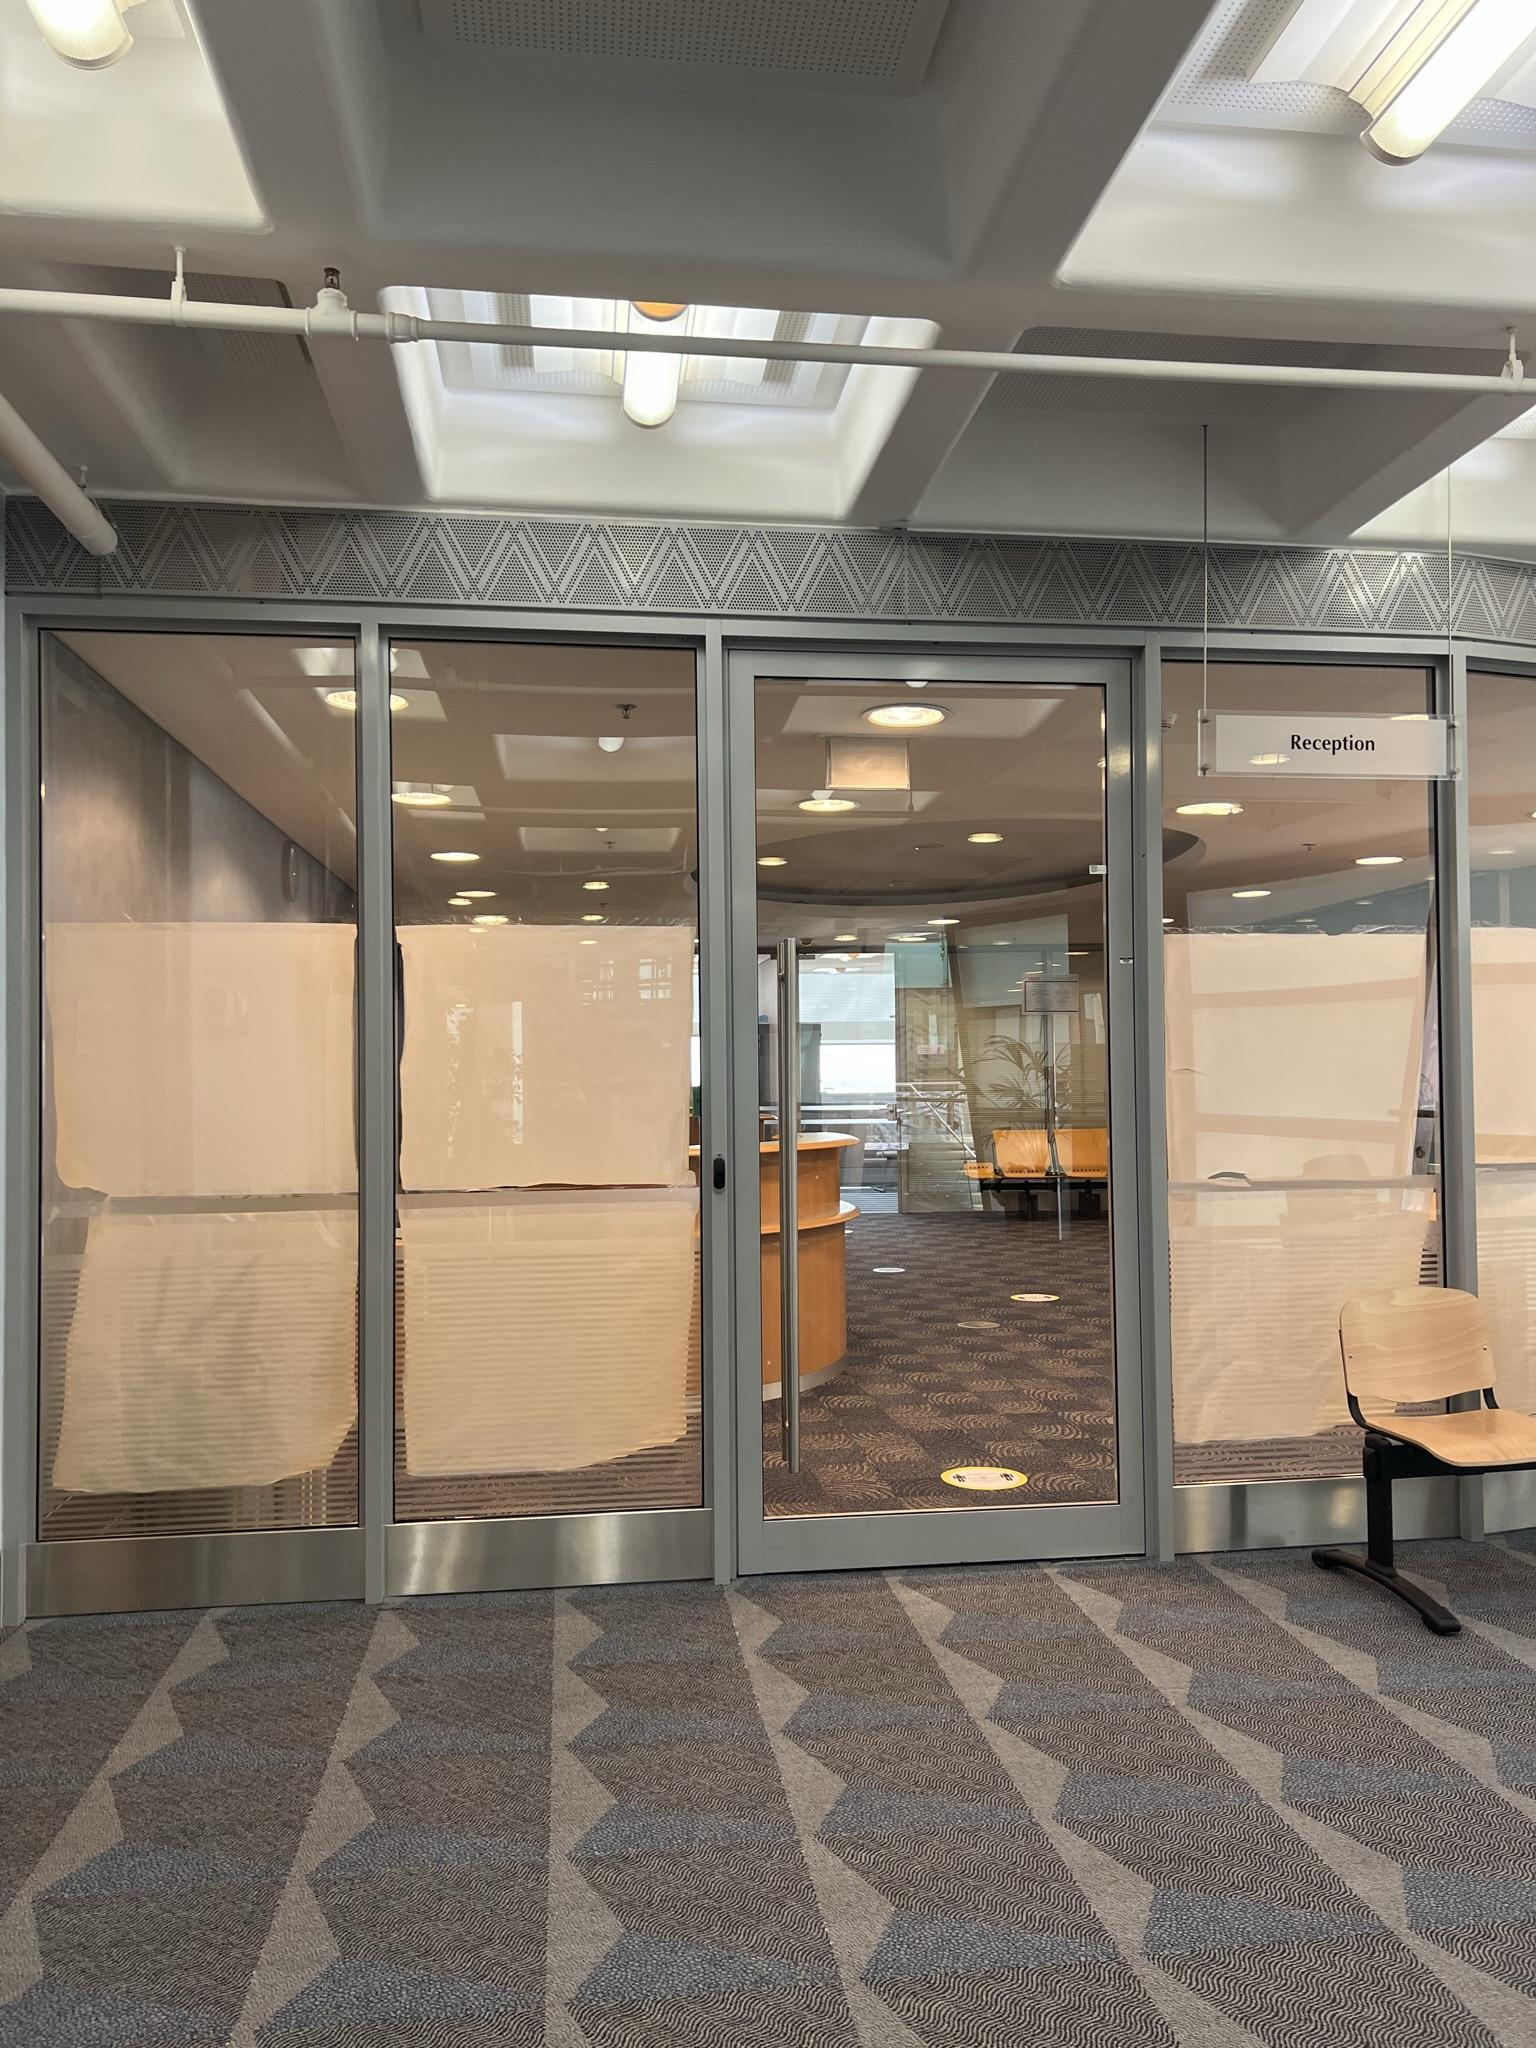door: (721, 626, 1154, 1582)
handle: (776, 934, 797, 1464)
